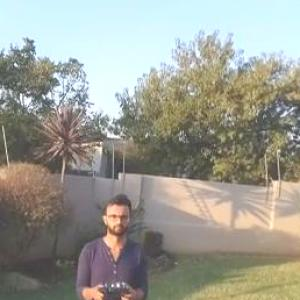follow: (72, 189, 151, 299)
